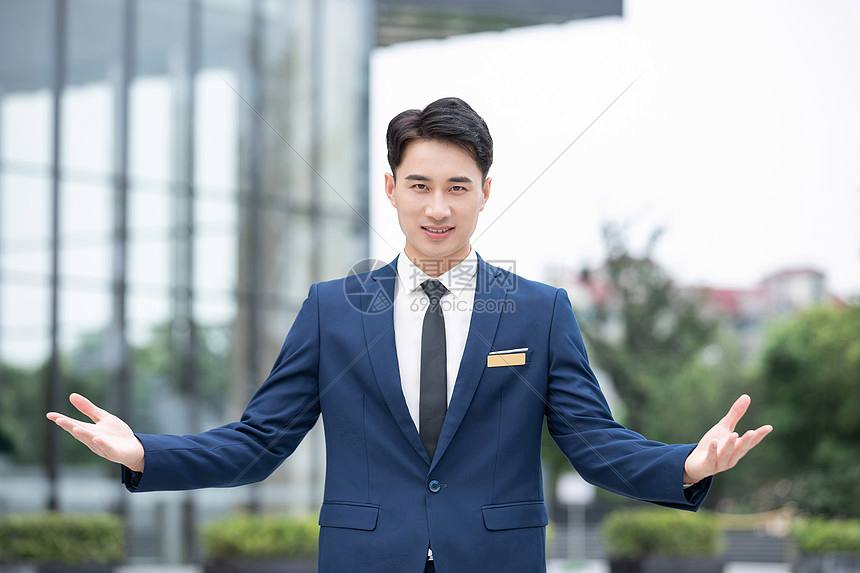no-phone: (684, 391, 776, 479), (42, 389, 141, 469)
